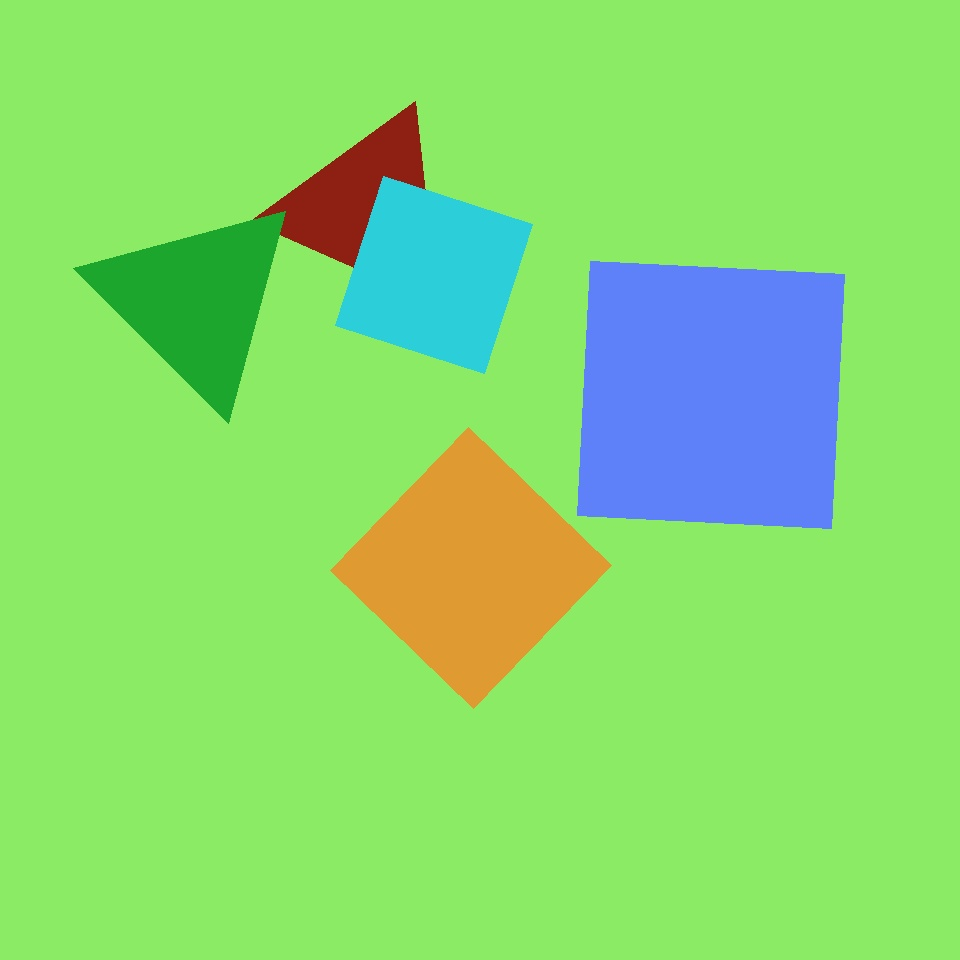circle: (90, 195, 302, 407), (274, 108, 462, 310)
square: (330, 428, 612, 708), (64, 231, 335, 502), (578, 261, 844, 528), (383, 673, 623, 913), (336, 176, 532, 374)
triangle: (37, 114, 339, 416)
